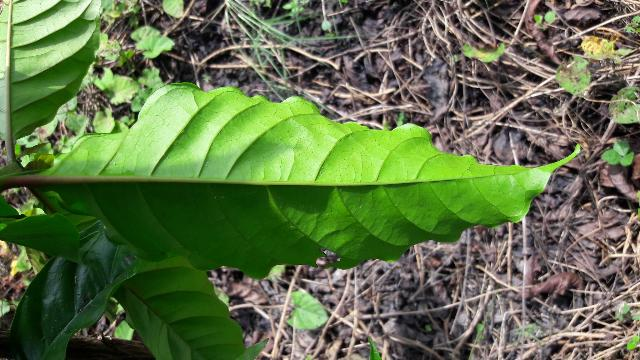healthy: (35, 84, 581, 278)
